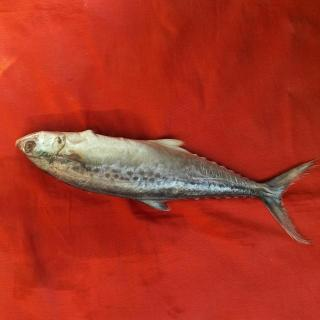Ikan: (14, 124, 318, 261)
